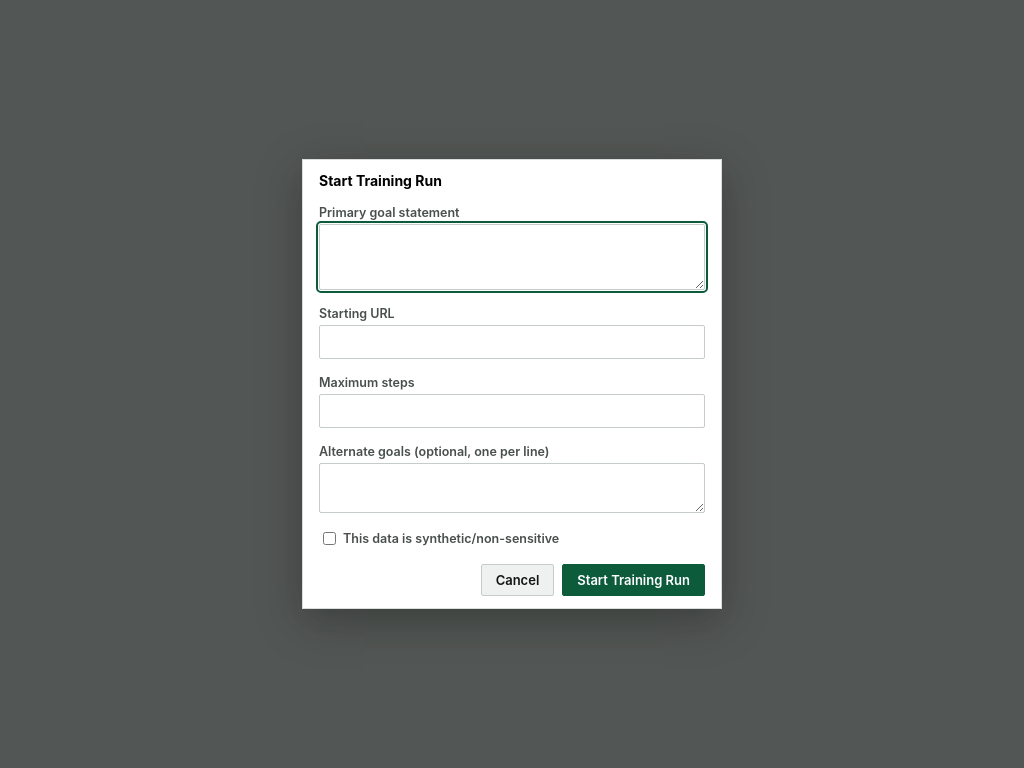
StartTrainingModal › shows a positive-integer message for a non-positive maximum steps value
Type "Extract invoices" into the text box labelled "Primary goal statement" at (512, 257), box [319,224,705,290]
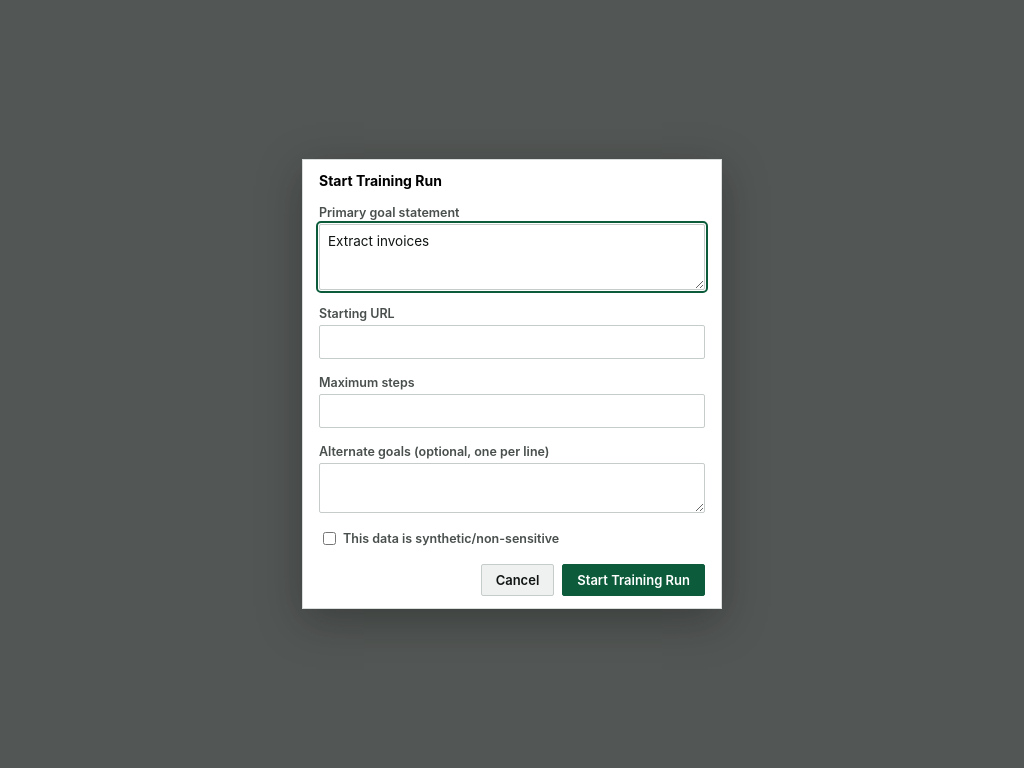
Type "https://example.com" into the field labelled "Starting URL" at (512, 342), box [319,325,705,359]
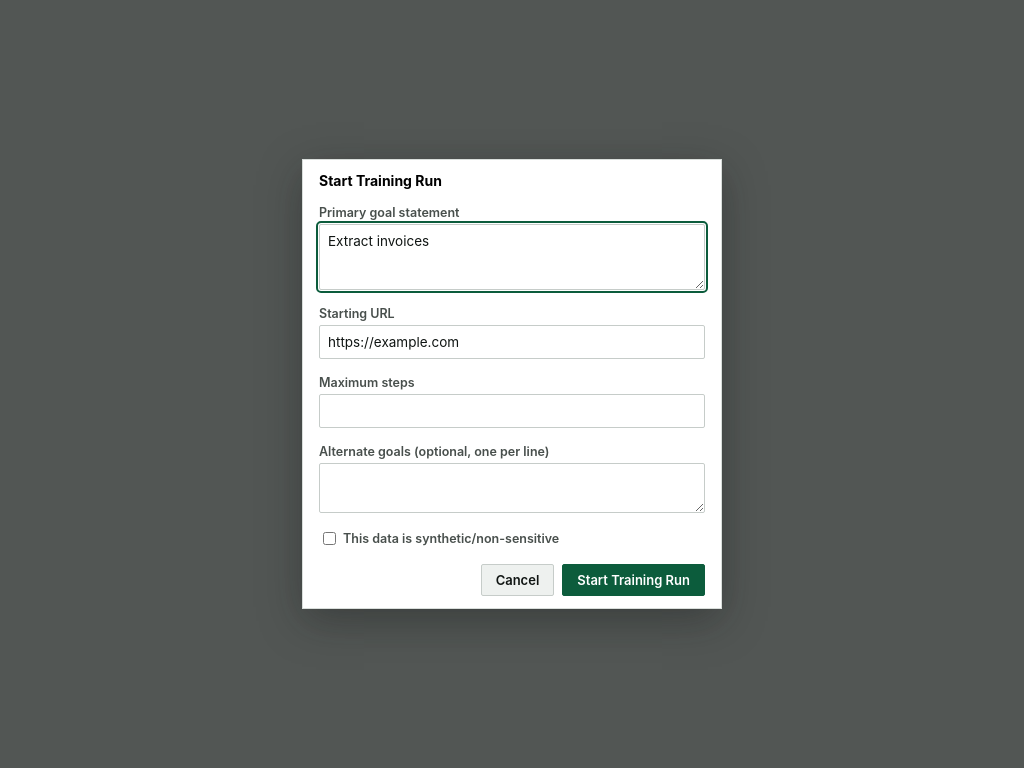
Type "0" into the field labelled "Maximum steps" at (512, 411), box [319,394,705,428]
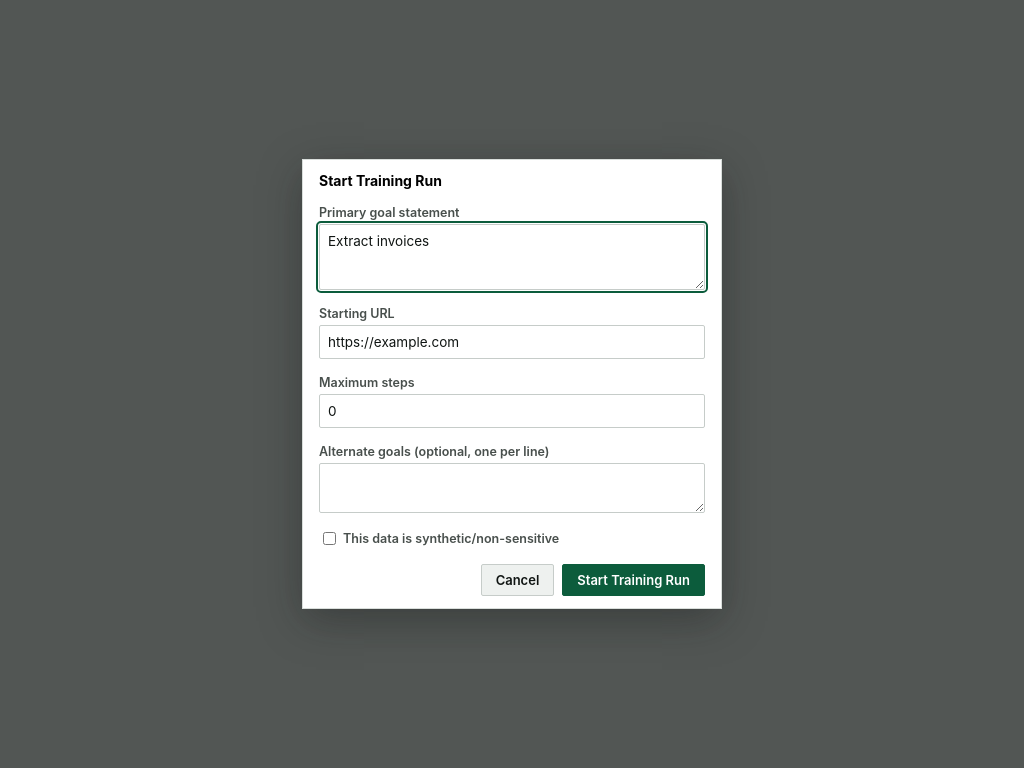
Click the button "Start Training Run" at (634, 580), box [562,564,705,596]
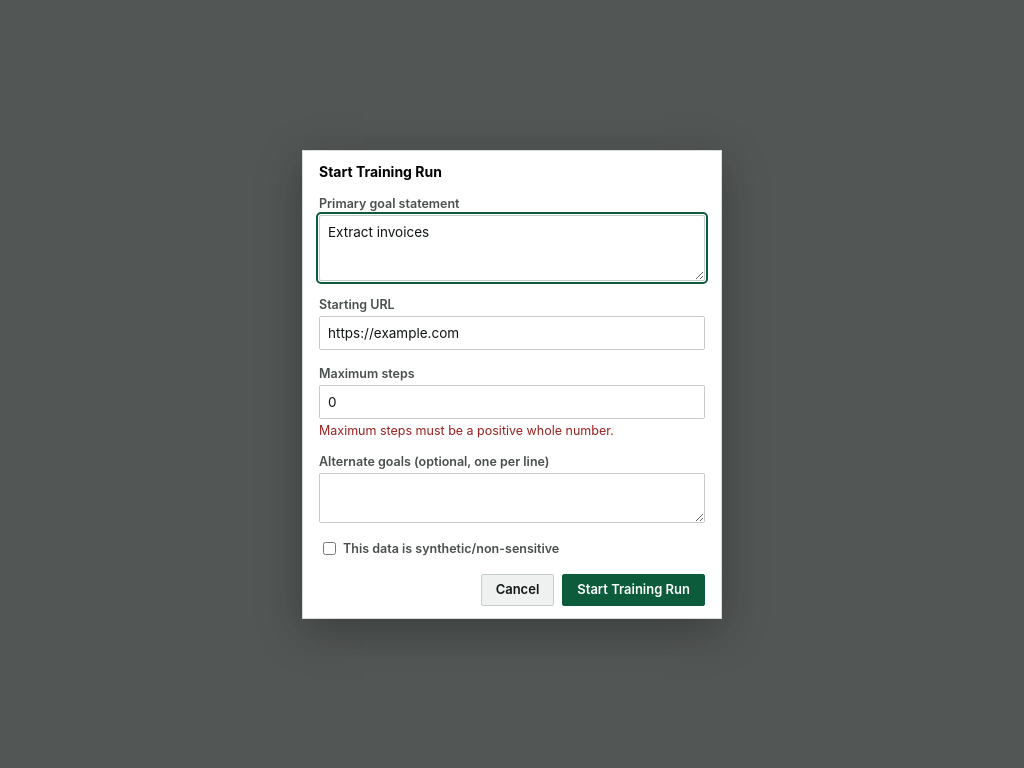
Check: the text "Maximum steps must be a positive whole number." is shown, box [319,422,614,438]
